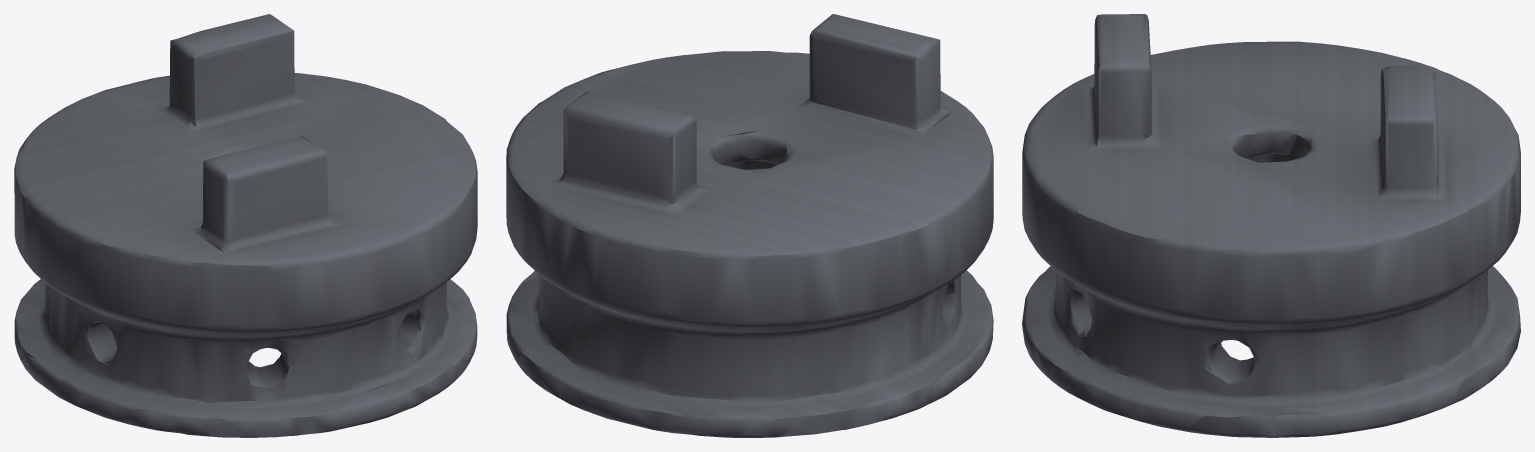
The model's file is Left_elbow_outword.obj.
The picture shows the model from 3 angles, left to right: view 1: azimuth 30°, elevation 25°; view 2: azimuth 150°, elevation 25°; view 3: azimuth 270°, elevation 25°; orthographic projection. The views are drawn at different scales.
Parts seen in each view (by area): view 1: Left_elbow_outword; view 2: Left_elbow_outword; view 3: Left_elbow_outword.
Boxes of the visible parts, x1,y1,x2,y2 form: Left_elbow_outword: (14, 14, 477, 437); Left_elbow_outword: (506, 14, 993, 437); Left_elbow_outword: (1022, 14, 1520, 437).
Bounding box in the file's own units: 0.0383 × 0.0229 × 0.0383.
1 material, 1 textured.
